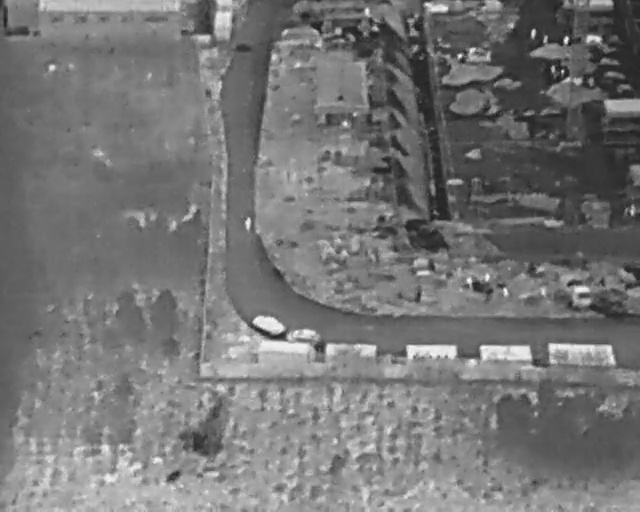Person: (243, 213, 252, 235), (530, 25, 538, 40), (541, 31, 549, 45), (562, 33, 570, 46)
